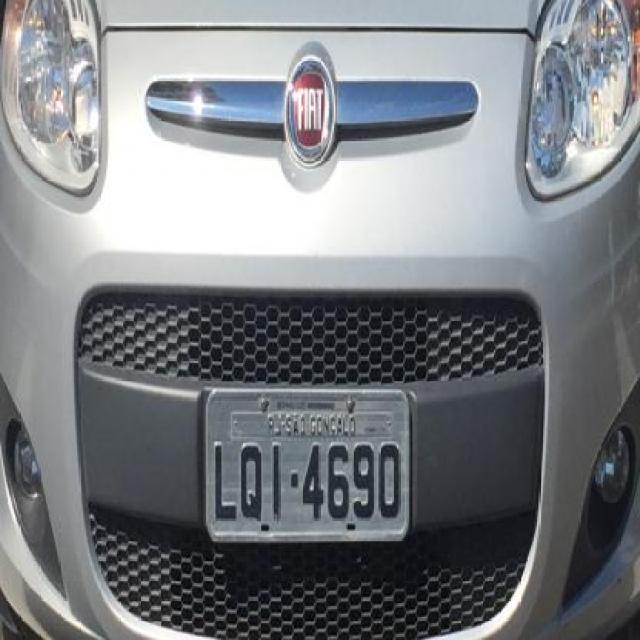old_plate: (198, 381, 414, 545)
